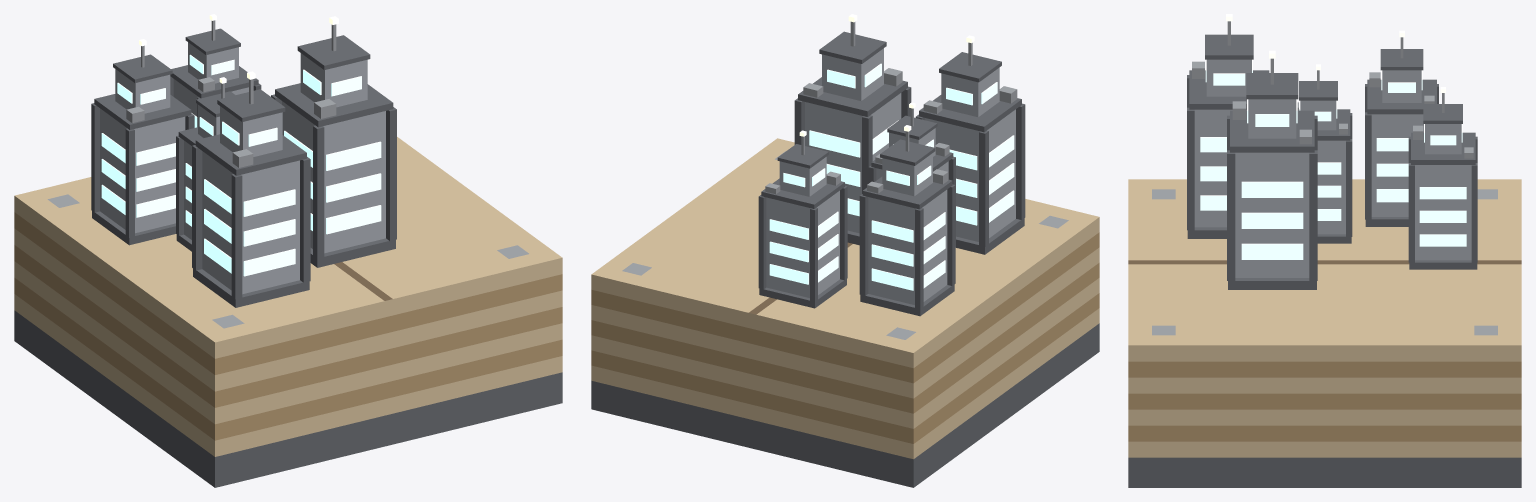
The model's file is PlywoodTile_Center5.fbx.
The picture shows the model from 3 angles, left to right: view 1: azimuth 30°, elevation 25°; view 2: azimuth 150°, elevation 25°; view 3: azimuth 270°, elevation 25°; orthographic projection. The views are drawn at different scales.
Parts seen in each view (by area): view 1: PlywoodTile_Center5; view 2: PlywoodTile_Center5; view 3: PlywoodTile_Center5.
Part boxes in pixels (x1,y1,x2,y2): PlywoodTile_Center5: (14,14,562,487); PlywoodTile_Center5: (591,14,1099,487); PlywoodTile_Center5: (1128,14,1521,487).
Bounding box in the file's own units: 1 × 1.01 × 1.
